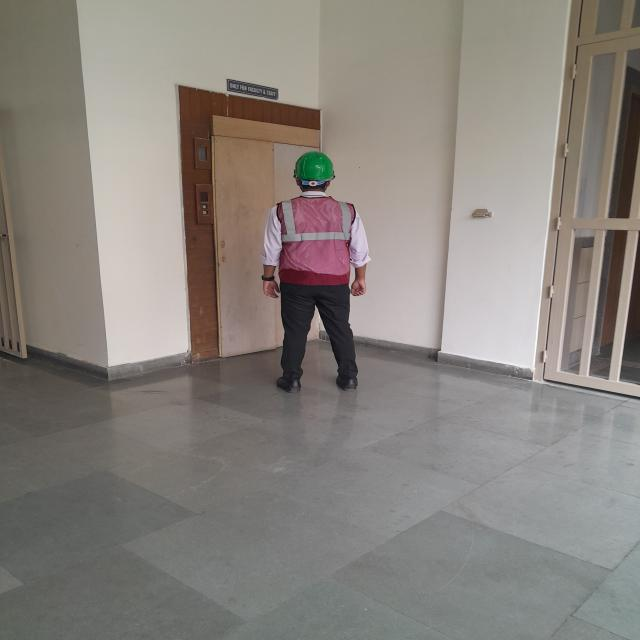safe: (263, 152, 369, 392)
